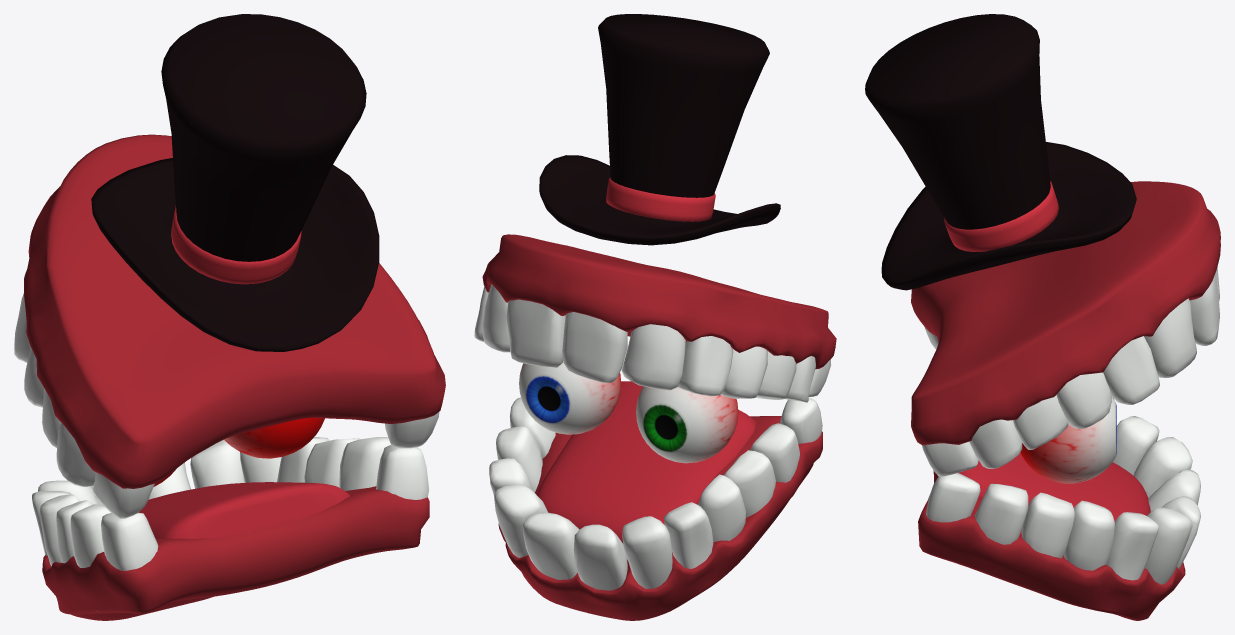
Rendered from caine.glb.
The picture shows the model from 3 angles, left to right: view 1: azimuth 30°, elevation 25°; view 2: azimuth 150°, elevation 25°; view 3: azimuth 270°, elevation 25°; orthographic projection. The views are drawn at different scales.
Parts seen in each view (by area): view 1: caine_head; view 2: caine_head; view 3: caine_head.
Boxes of the visible parts, x1,y1,x2,y2 form: caine_head: [14, 14, 445, 620]; caine_head: [474, 14, 836, 620]; caine_head: [865, 14, 1220, 620].
Bounding box in the file's own units: 2.06 × 3.51 × 2.
Materials: 3 (3 with a texture image).
